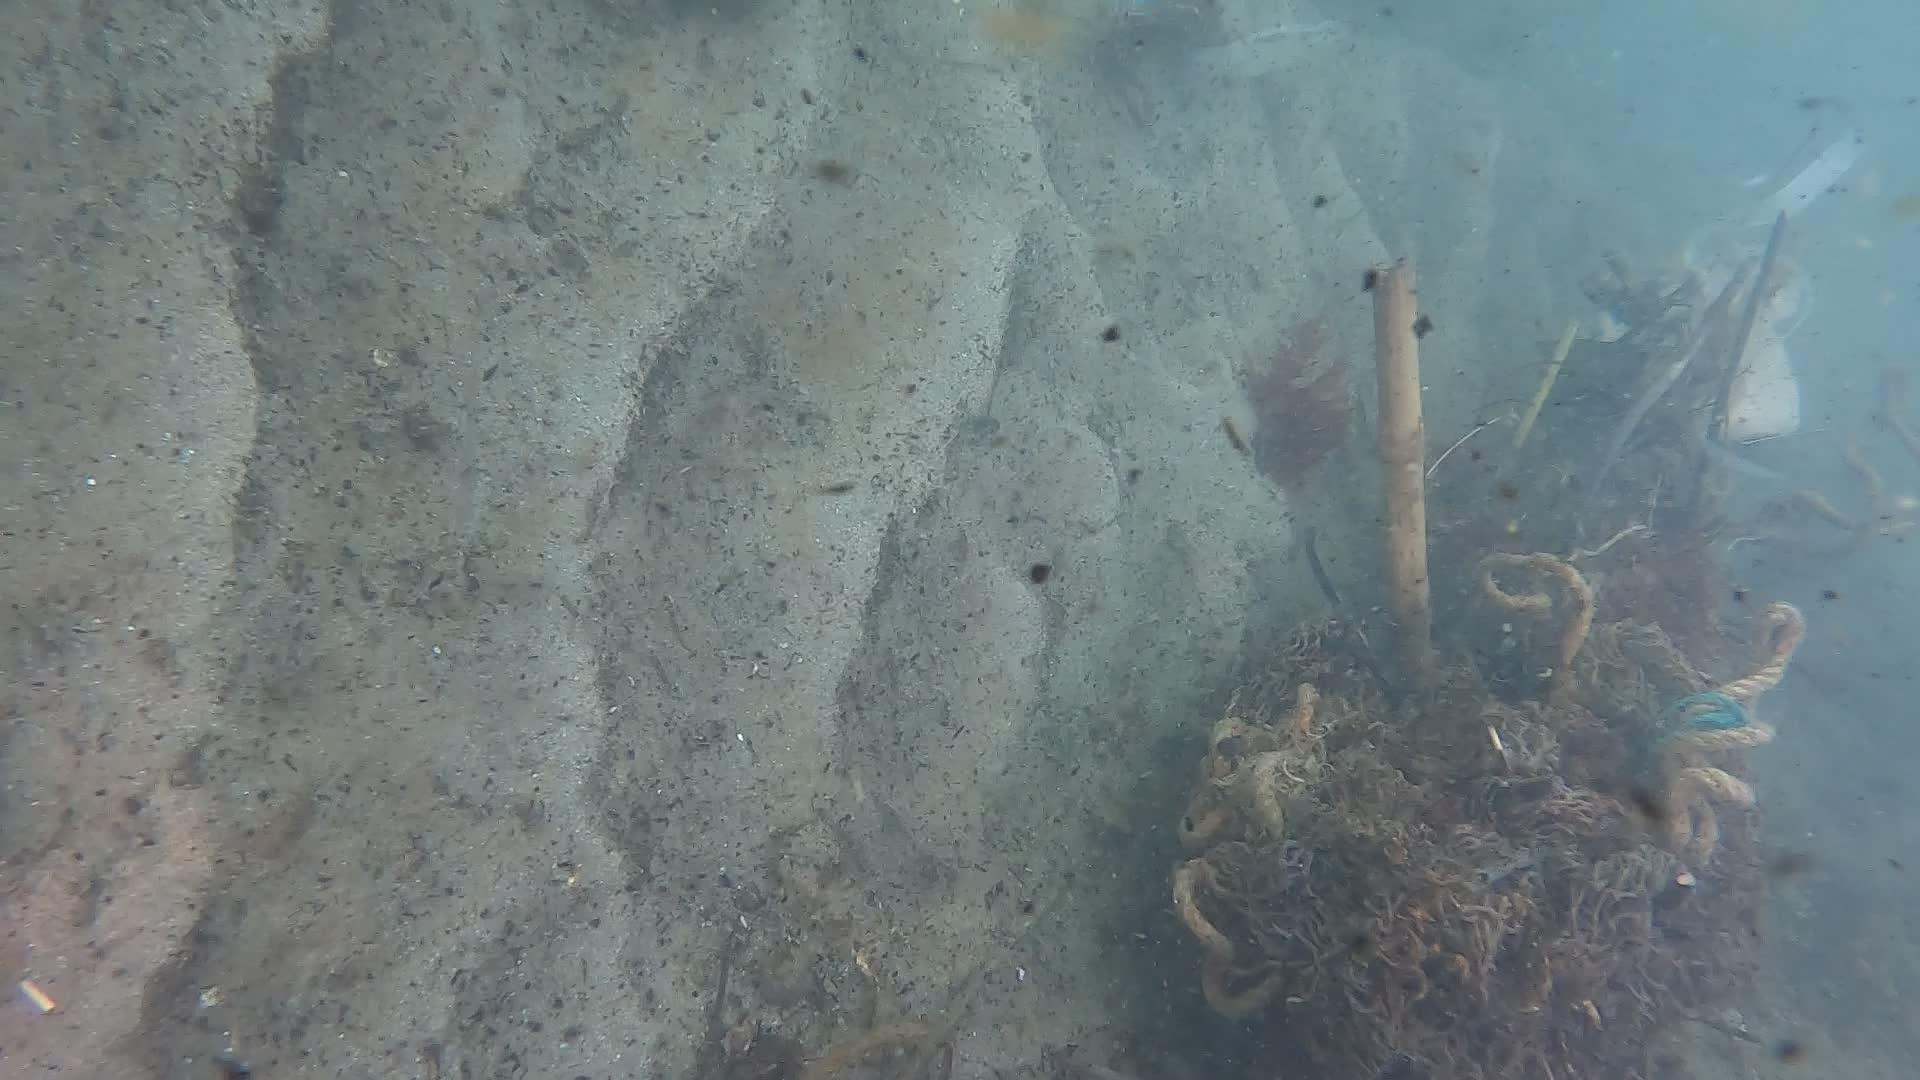bundle of ropes: (1164, 546, 1811, 1026)
